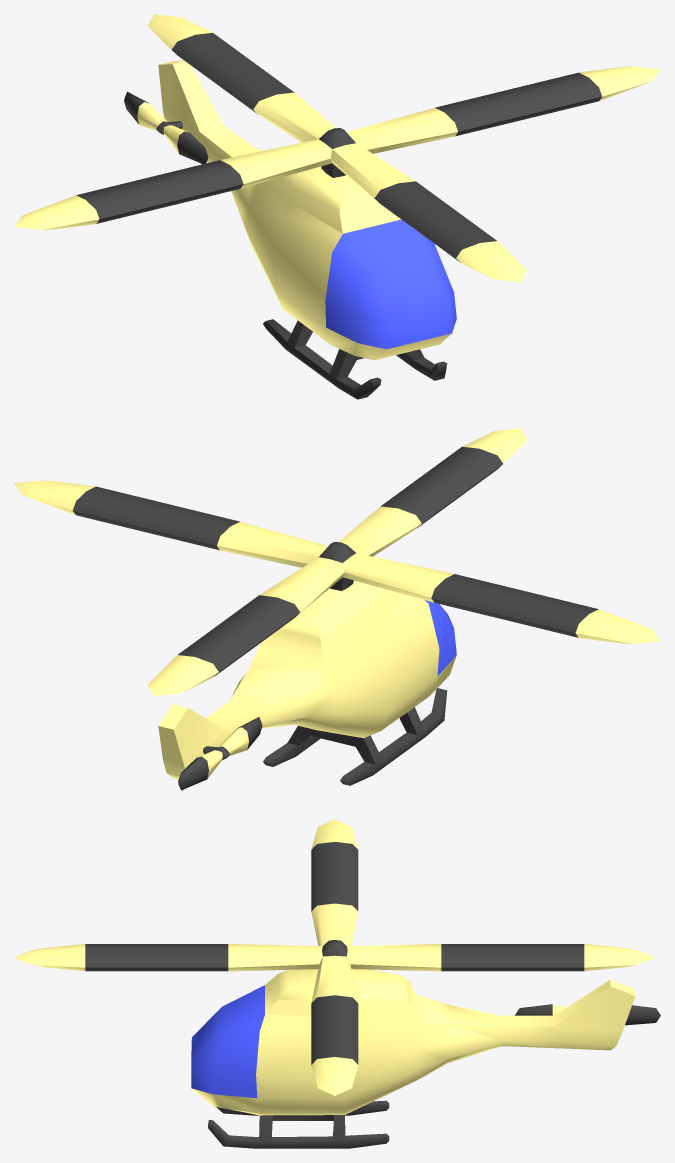
Rendered from helicopter000.fbx.
3 views of the same model, one above another, from view 1: azimuth 30°, elevation 25°; view 2: azimuth 150°, elevation 25°; view 3: azimuth 270°, elevation 25° (orthographic). The views are drawn at different scales.
Parts seen in each view (by area): view 1: obj0, obj1, obj2; view 2: obj0, obj1, obj2; view 3: obj0, obj1, obj2.
Boxes of the visible parts, bbox=[...] form: obj0: bbox=[14, 14, 660, 360]; obj1: bbox=[76, 33, 602, 399]; obj2: bbox=[325, 219, 456, 349]; obj0: bbox=[14, 428, 660, 779]; obj1: bbox=[72, 446, 598, 790]; obj2: bbox=[424, 600, 456, 675]; obj0: bbox=[14, 819, 655, 1115]; obj1: bbox=[85, 842, 660, 1148]; obj2: bbox=[191, 985, 264, 1098].
Bounding box in the file's own units: 20 × 6.32 × 19.76.
